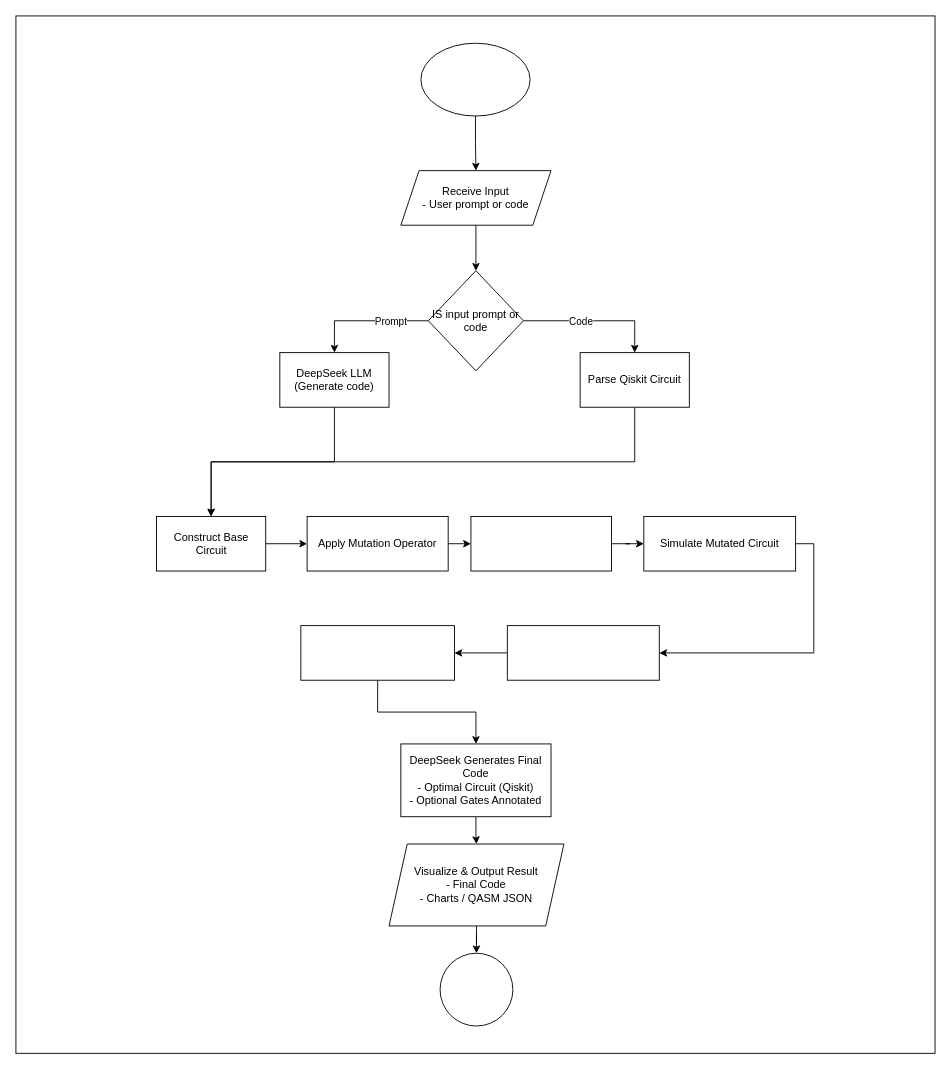
The diagram is 951 pixels wide and 1069 high, and some of its shapes have lost their labels. The shapes that lost their labels are listed below. From the top down, each one's box as (x1, y1, x2, y2) in pixels, then its label:
(420, 42, 530, 116): Start
(470, 516, 612, 571): Simulate Original Circuit
(300, 625, 454, 680): Compare & Score Circuits
(506, 625, 659, 680): Compute Fidelity and Stats
(439, 952, 513, 1026): End
